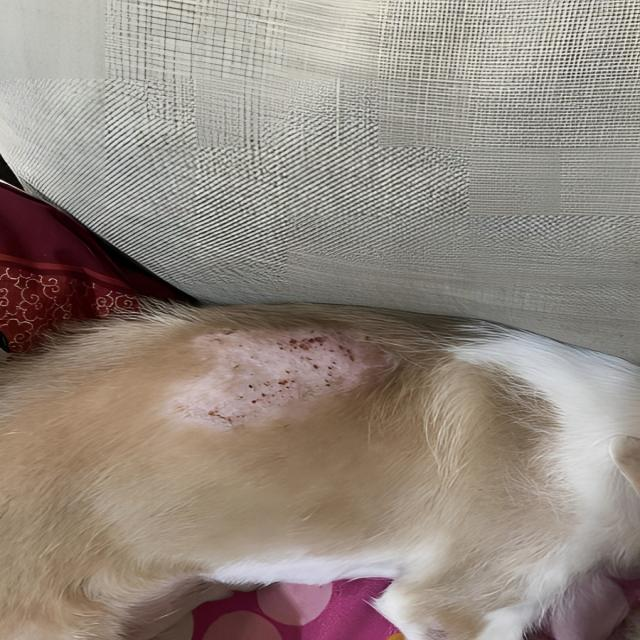hac lao: (162, 320, 394, 449)
